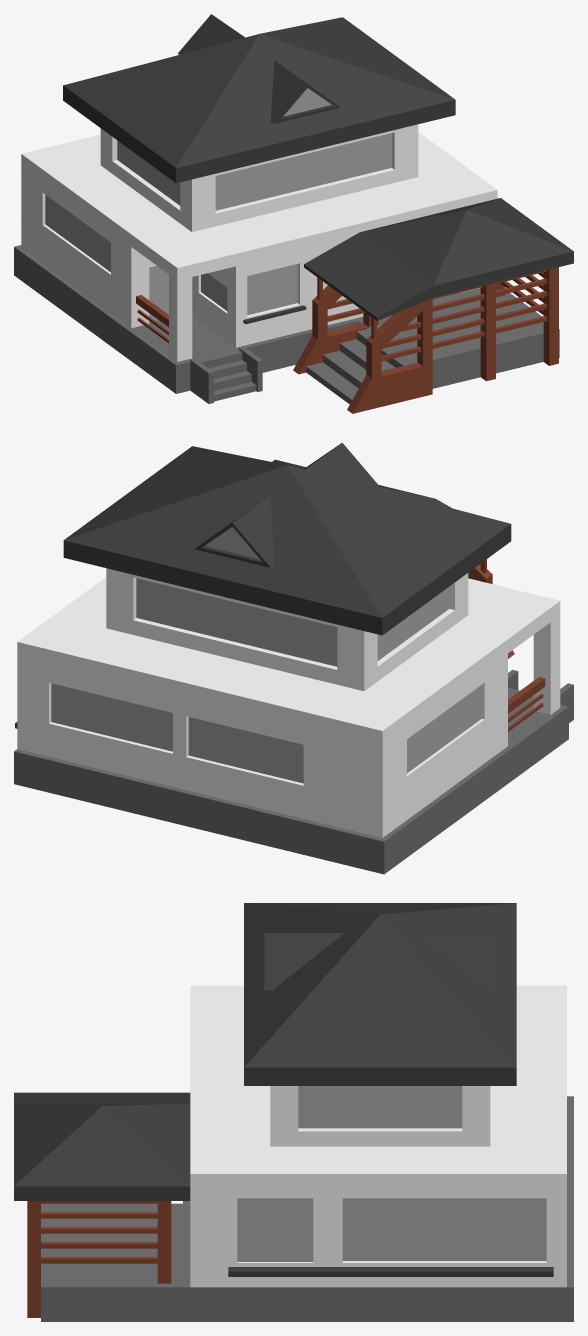
File: Résidence 3 RES_T3_16_WEILL_02.fbx
3 renders of one model, top to bottom at view 1: azimuth 30°, elevation 25°; view 2: azimuth 150°, elevation 25°; view 3: azimuth 270°, elevation 25°, orthographic. The views are drawn at different scales.
Visible parts, largest first — view 1: Batiment; view 2: Batiment; view 3: Batiment.
Boxes of the visible parts, box(x1,y1,x2,y2) form: Batiment: box(14, 14, 573, 413); Batiment: box(14, 442, 573, 874); Batiment: box(14, 903, 573, 1321).
Size of the model in its own units: 301 by 225 by 364.
